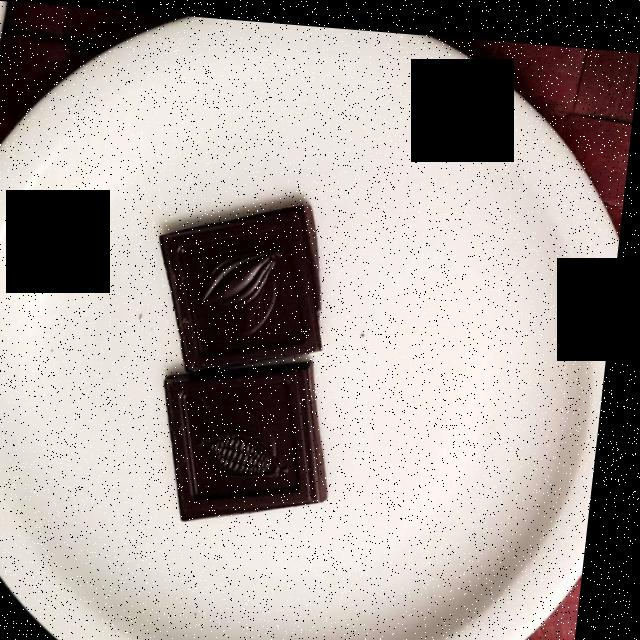dark-chocolate: (159, 190, 339, 517)
